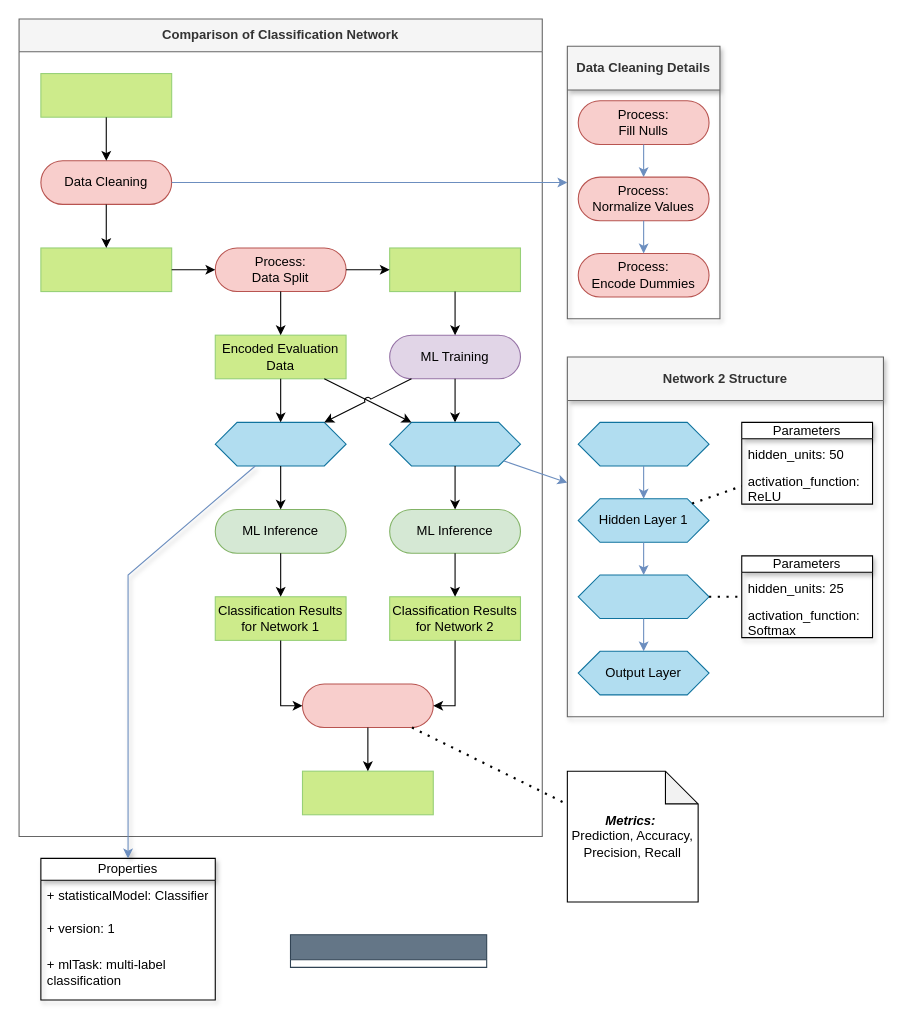
This 909x1027 diagram has some shape labels left out. The shapes that lost their labels are listed below. From the top down, each one's centre as x and y in pixels, then its label:
point 106,94: Credit Score Data
point 106,269: Encoded Data
point 454,269: Encoded Training Data
point 280,443: Multi-Label Classification Network 1
point 454,443: Multi-Label Classification Network 2
point 643,443: Input Layer
point 643,596: Hidden Layer 2
point 367,705: Process: Result Comparison
point 367,792: Comparison Result
point 388,950: BEAM Library - Simplified
